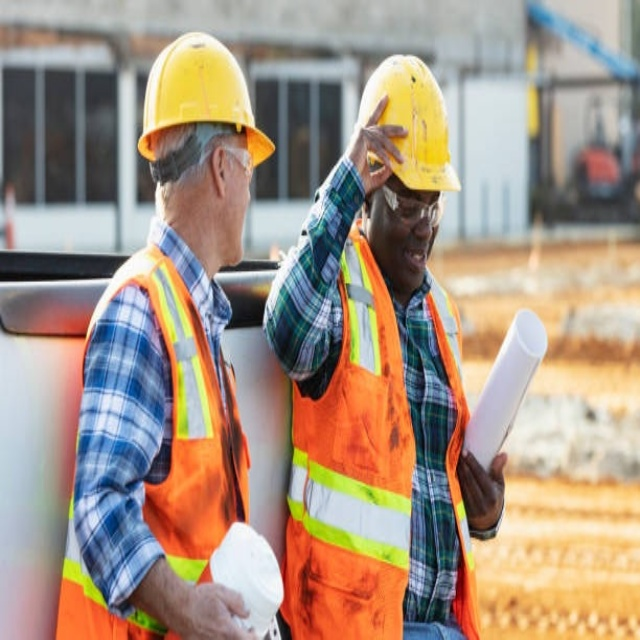Gafas: (383, 186, 444, 232), (214, 140, 255, 181)
Sin_guantes: (345, 94, 412, 184), (183, 581, 264, 640), (456, 447, 506, 533)
Sin_mascara: (215, 198, 251, 265), (390, 241, 432, 283)
